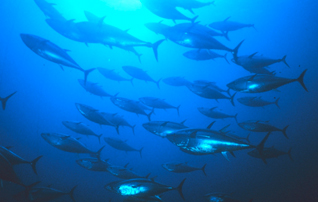Bluefina Tuna: (17, 29, 95, 81), (164, 125, 269, 162), (162, 27, 245, 58), (226, 70, 312, 95), (106, 174, 190, 199), (39, 131, 106, 161)
